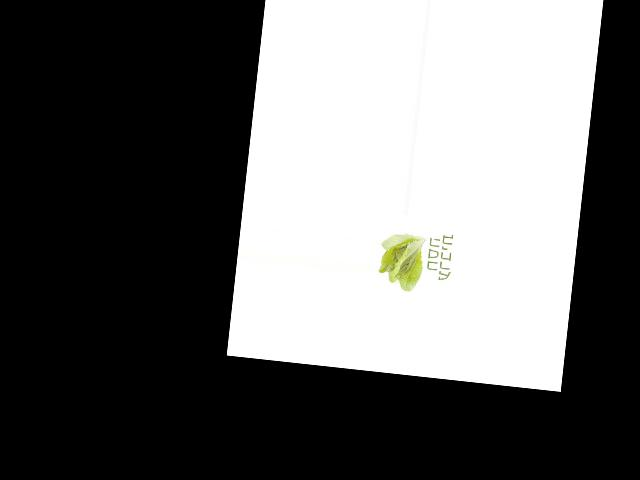lettuce: (376, 227, 431, 293)
